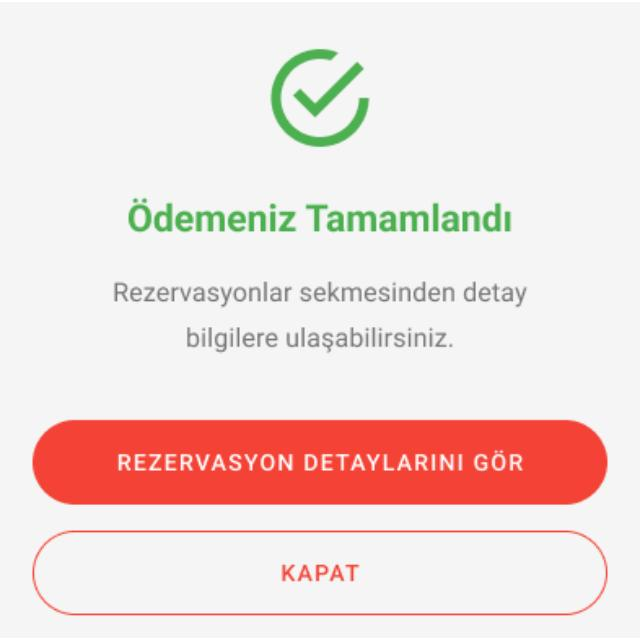QLabel: (109, 280, 529, 354), (124, 196, 516, 238), (105, 448, 533, 478), (272, 559, 362, 587)
VBtn: (32, 530, 608, 618), (32, 420, 608, 506)
VImg: (267, 42, 377, 148)
